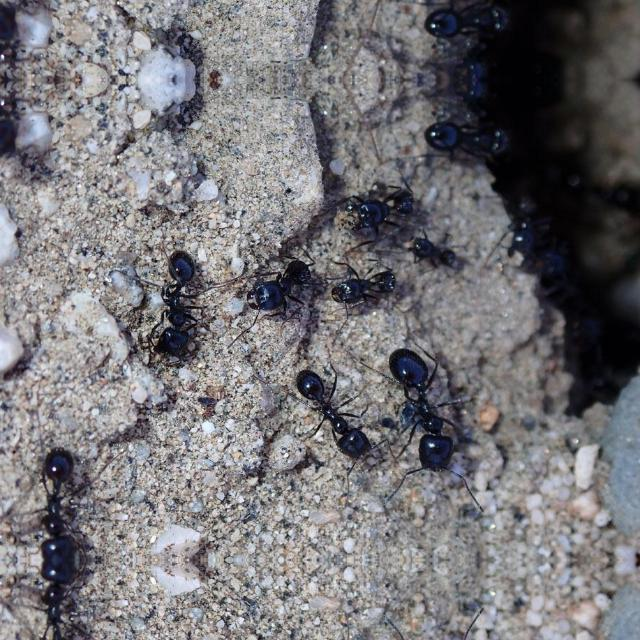Messor: (381, 340, 493, 474), (281, 366, 371, 456), (26, 429, 86, 558), (144, 248, 212, 352), (493, 202, 572, 288), (240, 246, 312, 330), (416, 109, 509, 163), (26, 559, 85, 640), (416, 0, 509, 49), (334, 182, 428, 230), (338, 249, 390, 311), (414, 230, 466, 274)
